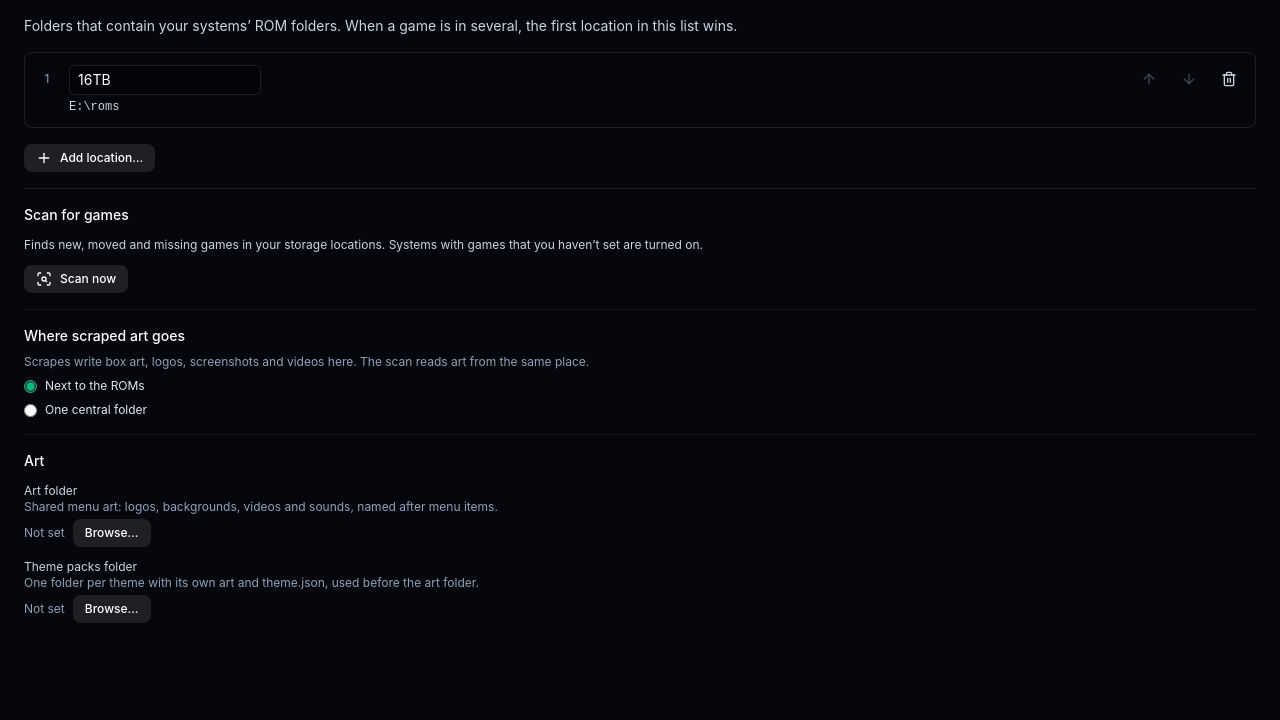
Test: StorageSection › FR-LIB-1: a duplicate path shows a field error and disables Save
This screenshot has width=1280, height=720.
Step 1. Click the button "Add location…" → (90, 158), box x1=24 y1=144 x2=155 y2=172
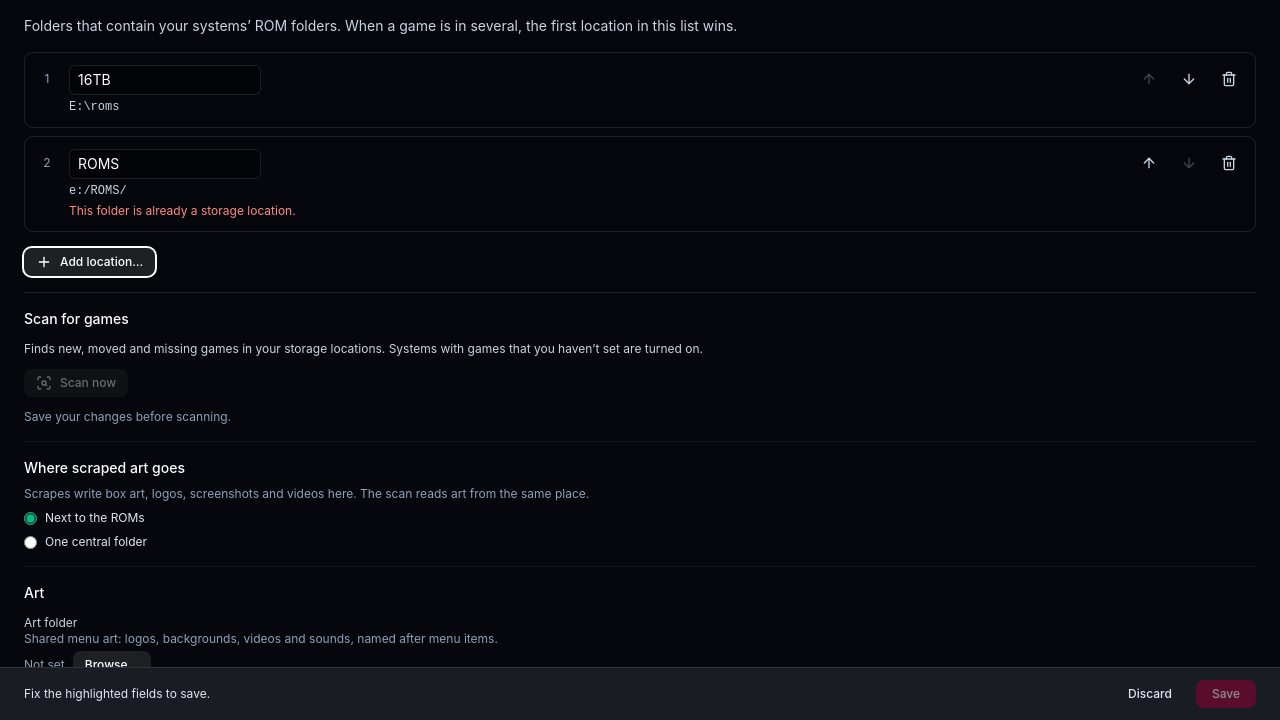
expect the text "This folder is already a storage location." is shown: met, box x1=69 y1=203 x2=296 y2=218
expect the button "Save" is disabled: met, box x1=1196 y1=680 x2=1256 y2=708
